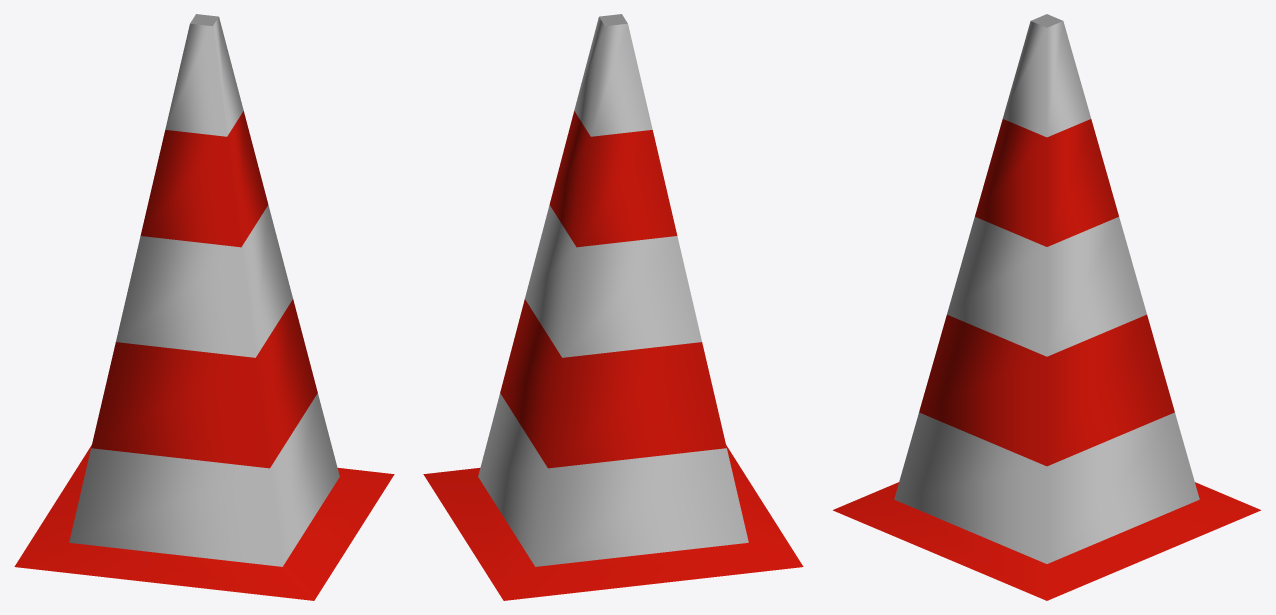
The model's file is StreetCone_01.fbx.
3 views of the same model, side by side, from view 1: azimuth 30°, elevation 25°; view 2: azimuth 150°, elevation 25°; view 3: azimuth 270°, elevation 25° (orthographic). The views are drawn at different scales.
Parts seen in each view (by area): view 1: Cone_01; view 2: Cone_01; view 3: Cone_01.
Boxes of the visible parts, bbox=[...] form: Cone_01: bbox=[14, 14, 394, 600]; Cone_01: bbox=[423, 14, 803, 600]; Cone_01: bbox=[833, 14, 1260, 600].
Bounding box in the file's own units: 2.47 × 3.11 × 2.47.
